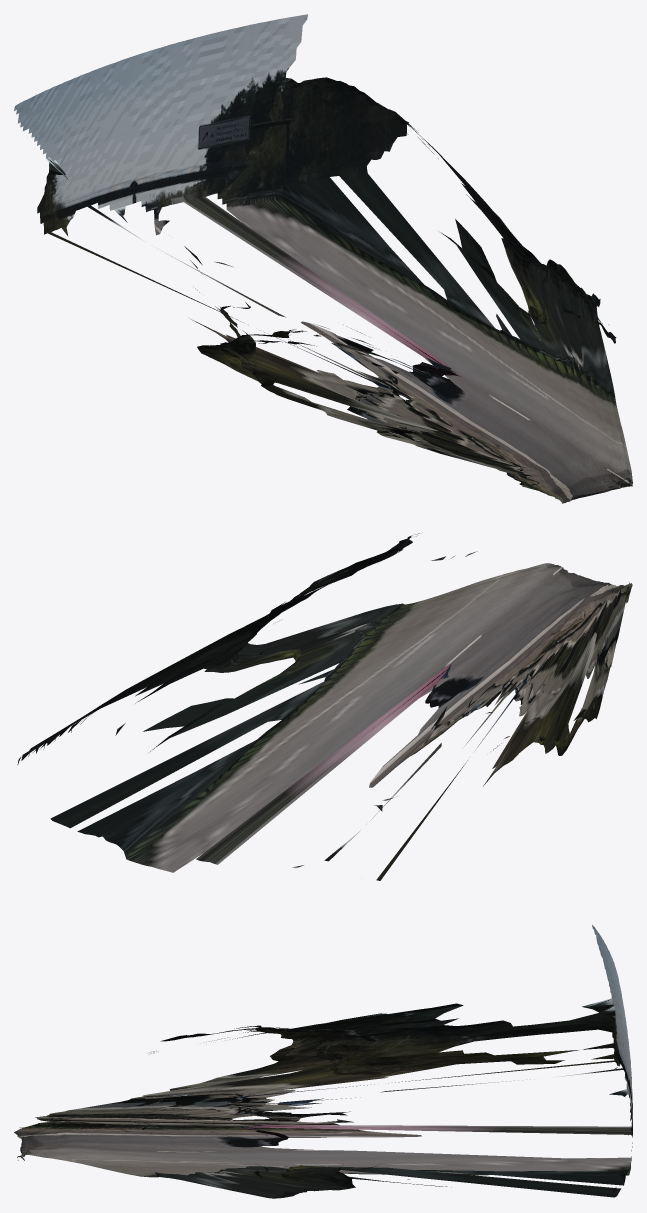
3 views of the same model, one above another, from view 1: azimuth 30°, elevation 25°; view 2: azimuth 150°, elevation 25°; view 3: azimuth 270°, elevation 25° (orthographic). The views are drawn at different scales.
Parts seen in each view (by area): view 1: defaultobject; view 2: defaultobject; view 3: defaultobject.
Boxes of the visible parts, bbox=[...] form: defaultobject: bbox=[14, 14, 632, 503]; defaultobject: bbox=[17, 533, 632, 880]; defaultobject: bbox=[14, 925, 632, 1198].
Size of the model in its own units: 26.59 by 12.08 by 44.67.
Materials: 1 (1 with a texture image).
